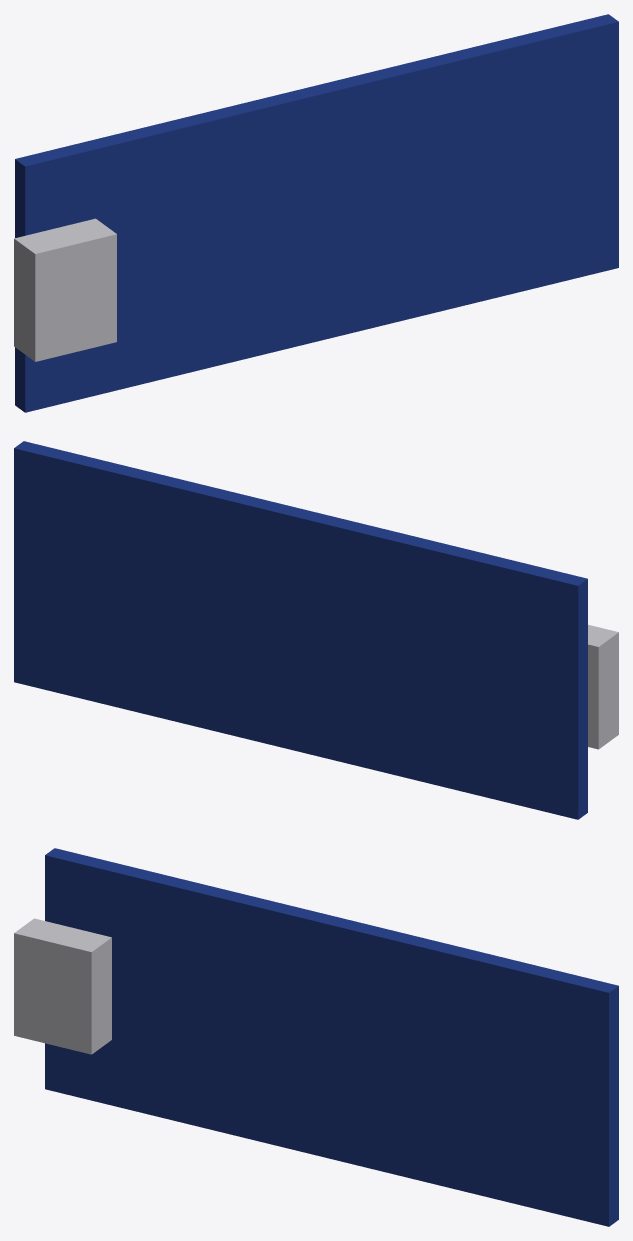
File: mod-blackpill.glb
The picture shows the model from 3 angles, top to bottom: view 1: azimuth 30°, elevation 25°; view 2: azimuth 150°, elevation 25°; view 3: azimuth 330°, elevation 25°; orthographic projection. The views are drawn at different scales.
Parts seen in each view (by area): view 1: PCB-MCU, MET-PORT; view 2: PCB-MCU, MET-PORT; view 3: PCB-MCU, MET-PORT.
Boxes of the visible parts, left/top/right/bottom form: PCB-MCU: left=15, top=14, right=618, bottom=412; MET-PORT: left=14, top=218, right=116, bottom=361; PCB-MCU: left=14, top=441, right=587, bottom=819; MET-PORT: left=588, top=624, right=618, bottom=749; PCB-MCU: left=45, top=848, right=618, bottom=1226; MET-PORT: left=14, top=918, right=111, bottom=1054.
Size of the model in its own units: 54 by 21 by 4.9.
